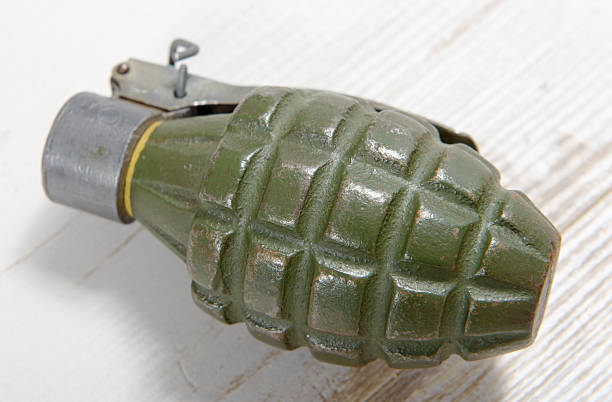e1: (39, 39, 566, 365)
